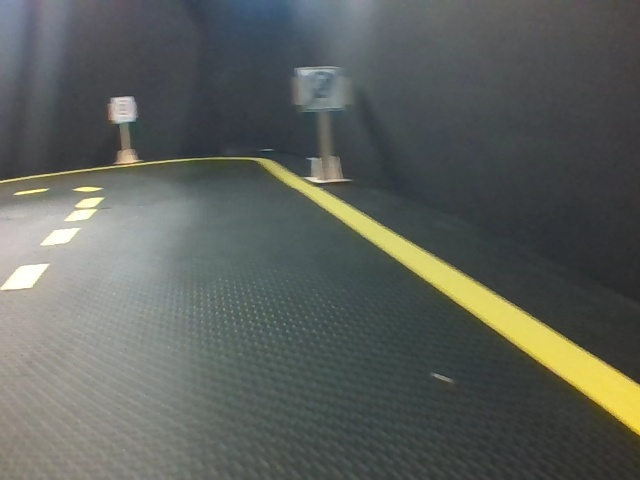30: (111, 97, 134, 123)
no30: (300, 68, 340, 110)
